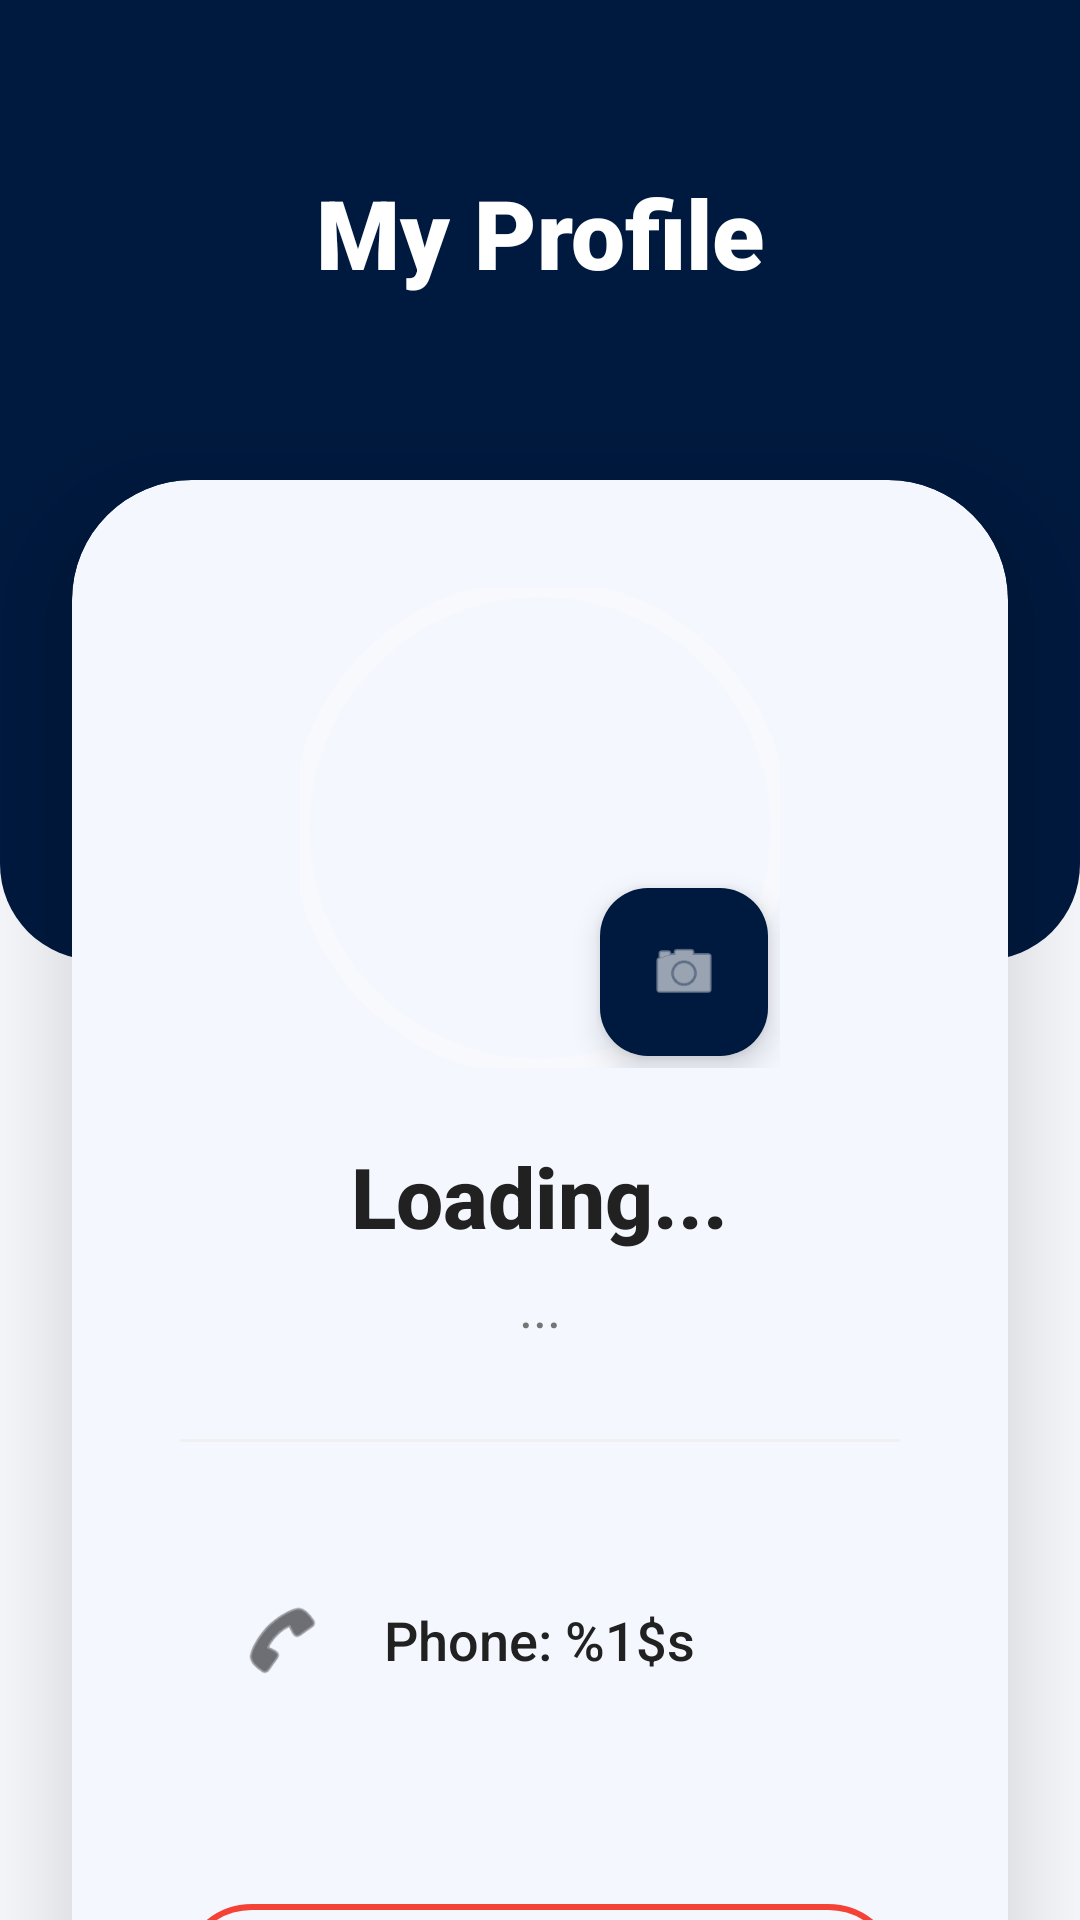

Icon bounding boxes for this 1080px x 1920px phone screenshot, format (x1, y1, x2, y2):
call: (250, 1608, 315, 1673)
camera: (600, 888, 768, 1056)
